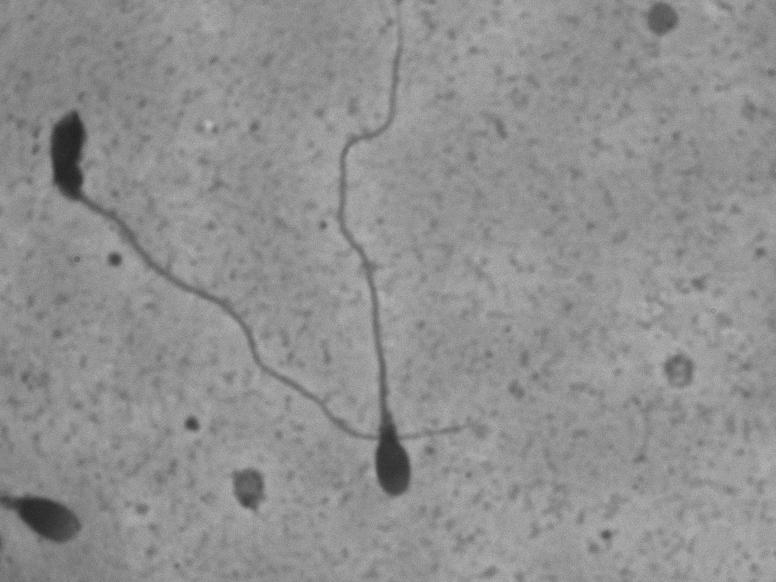Abnormal: (5, 105, 258, 376), (324, 7, 423, 511)
